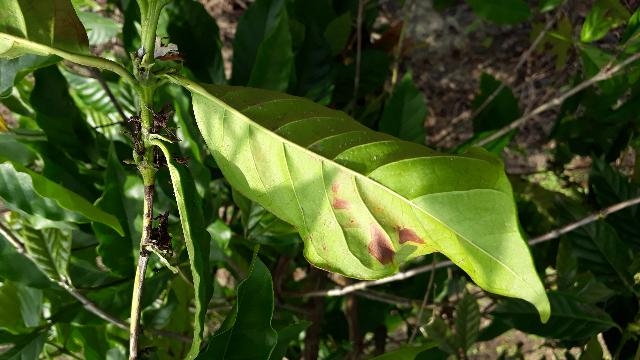red_spider_mite: (94, 39, 445, 275)
